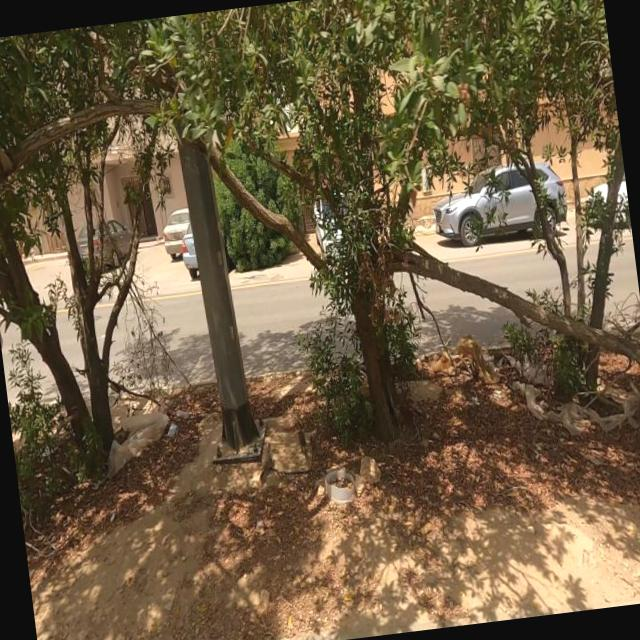debris: (370, 270, 560, 468), (50, 350, 238, 528), (252, 398, 444, 558)
